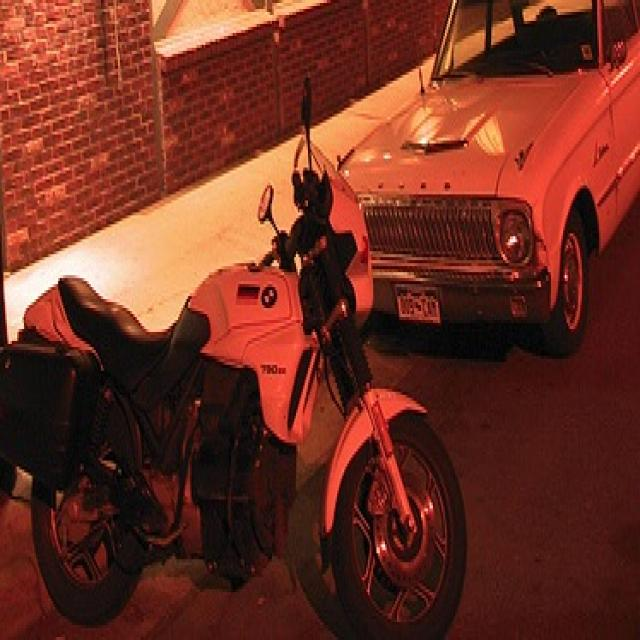Car: (336, 60, 640, 332)
Motorbike: (3, 202, 476, 628)
